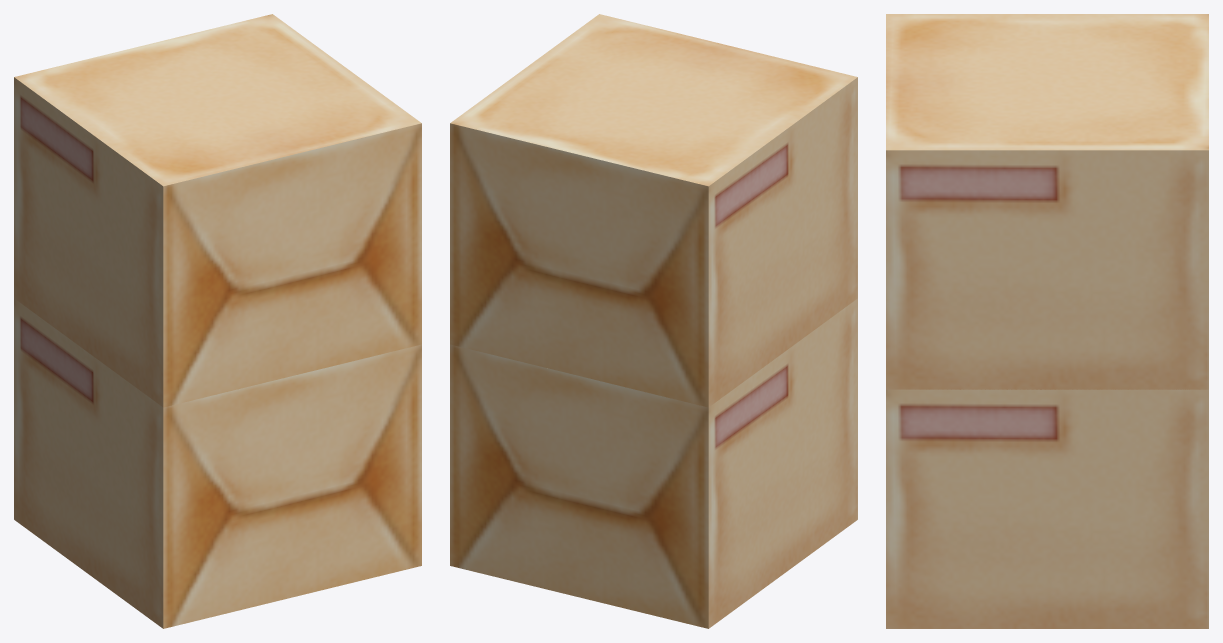
The model's file is a_SWGubox03A_1.glb.
3 views of the same model, side by side, from view 1: azimuth 30°, elevation 25°; view 2: azimuth 150°, elevation 25°; view 3: azimuth 270°, elevation 25° (orthographic). The views are drawn at different scales.
Parts seen in each view (by area): view 1: a_SWGubox03A_1; view 2: a_SWGubox03A_1; view 3: a_SWGubox03A_1.
Part boxes in pixels (left/top/right/bottom): a_SWGubox03A_1: left=14, top=14, right=421, bottom=628; a_SWGubox03A_1: left=450, top=14, right=857, bottom=628; a_SWGubox03A_1: left=886, top=14, right=1208, bottom=628.
Bounding box in the file's own units: 0.55 × 0.8995 × 0.55.
1 material, 1 textured.
